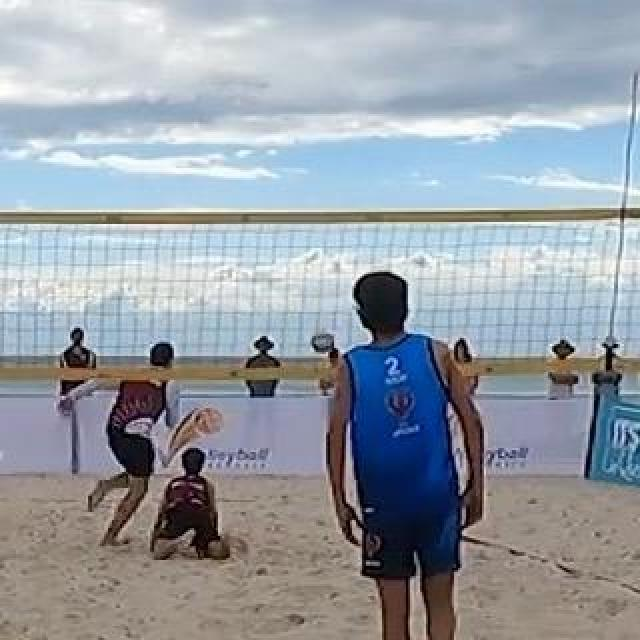volleyball: (453, 338, 475, 364)
